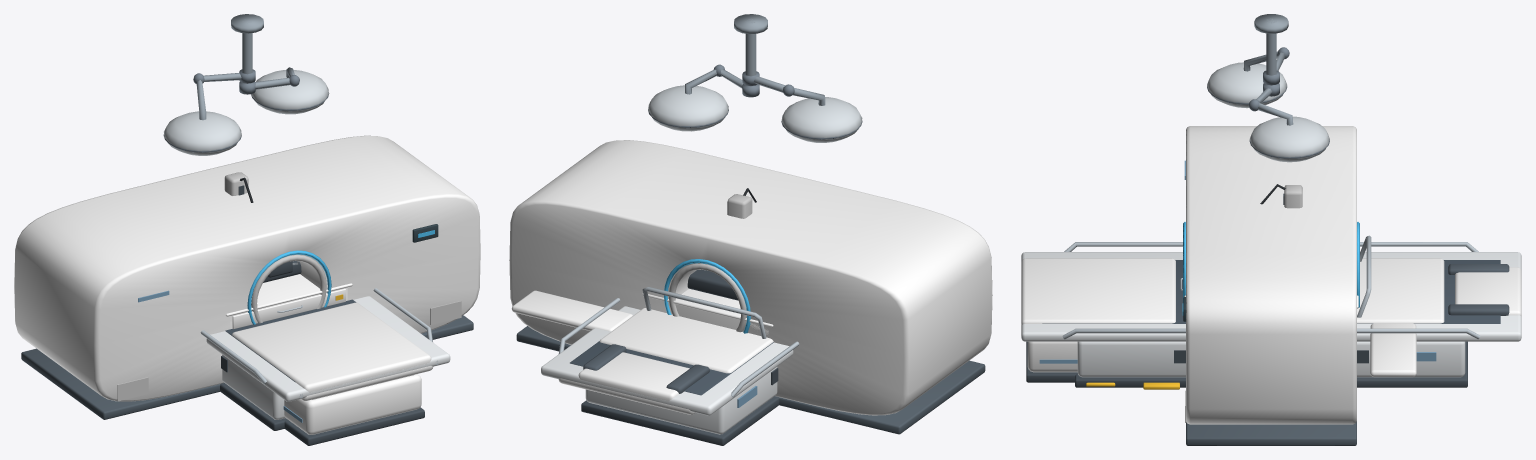
File: equipment_kit.glb
3 renders of one model, left to right at view 1: azimuth 30°, elevation 25°; view 2: azimuth 150°, elevation 25°; view 3: azimuth 270°, elevation 25°, orthographic. The views are drawn at different scales.
Visible parts, largest first — view 1: ct_gantry, operating_table, xray_table, surgical_lights, ct_base, resus_trolley, xray_tube, ct_top; view 2: ct_gantry, xray_table, operating_table, surgical_lights, resus_trolley, ct_top, xray_tube; view 3: ct_gantry, operating_table, xray_table, surgical_lights, ct_base, ct_top, resus_trolley, xray_tube.
Boxes of the visible parts, x1,y1,x2,y2 form: ct_gantry: (14,135,480,419); operating_table: (232,302,438,398); xray_table: (200,288,450,430); surgical_lights: (163,14,329,155); ct_base: (283,374,424,445); resus_trolley: (226,261,352,329); xray_tube: (224,172,298,277); ct_top: (301,366,432,400); ct_gantry: (509,140,992,434); xray_table: (541,298,799,445); operating_table: (511,290,773,401); surgical_lights: (648,14,862,142); resus_trolley: (642,269,773,338); ct_top: (558,344,709,414); xray_tube: (727,188,756,218); ct_gantry: (1182,126,1359,445); operating_table: (1021,258,1521,389); xray_table: (1021,242,1521,387); surgical_lights: (1207,14,1329,162); ct_base: (1026,341,1115,386); ct_top: (1448,264,1509,315); resus_trolley: (1180,235,1371,317); xray_tube: (1260,184,1302,208).
Size of the model in its own units: 3.76 by 3.01 by 4.1.
